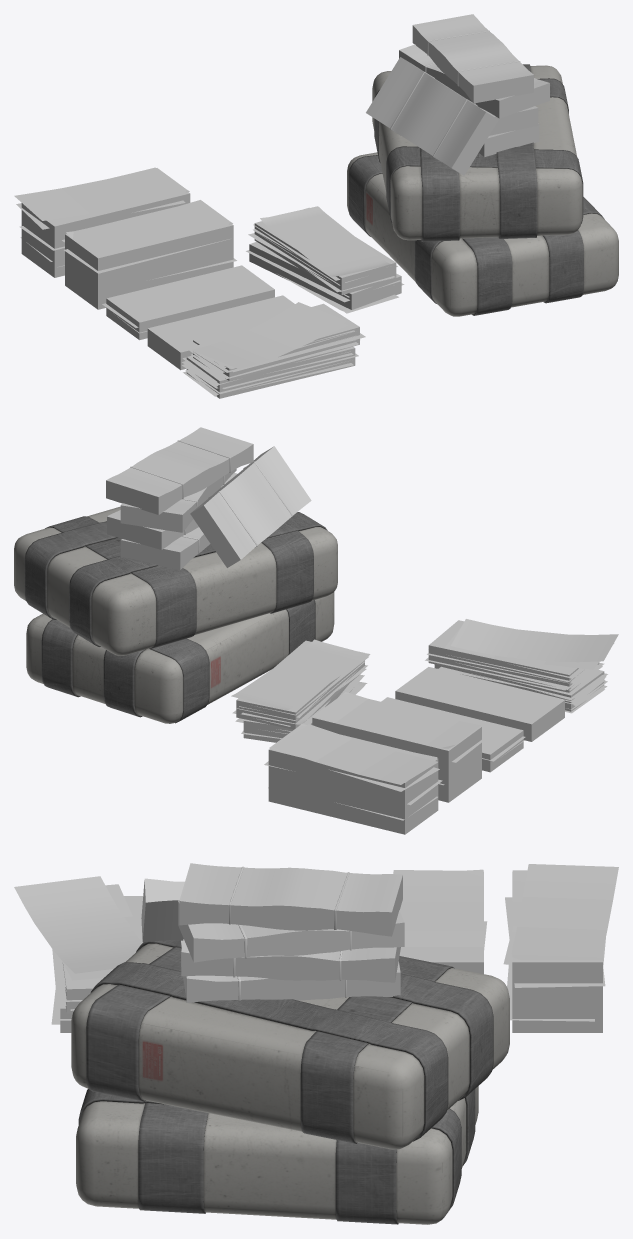
The picture shows the model from 3 angles, top to bottom: view 1: azimuth 30°, elevation 25°; view 2: azimuth 150°, elevation 25°; view 3: azimuth 270°, elevation 25°; orthographic projection. The views are drawn at different scales.
Visible parts, largest first — view 1: Cocain Brick_1.002, Cocain Brick_1.001, 100 Stack_1.003, 100 Stack_1, 100 Stack_1.006, Fat Stack Dirty, Small Stack Dirty, Small Stack No Band, LooseBill9.001, Fat Stack Dirty.001, 100 Stack_1.021, Small Stack Clean (+2 smaller); view 2: Cocain Brick_1.002, Cocain Brick_1.001, 100 Stack_1.003, Stack fat 20s.001, 100 Stack_1, 100 Stack_1.006, Small Stack Clean, Small Stack Dirty, Fat Stack Dirty.001, LooseBill9.001, 100 Stack_1.021, Fat Stack Dirty (+2 smaller); view 3: Cocain Brick_1.002, Cocain Brick_1.001, 100 Stack_1.003, LooseBill9.001, 100 Stack_1.021, Fat Stack Dirty.001, Stack fat 20s.001, 100 Stack_1.006, Small Stack Dirty, Stack fat 20s.002, LooseBill9.006, Fat Stack Dirty.
Boxes of the visible parts, <box> form: Cocain Brick_1.002: <box>372,64,583,241</box>; Cocain Brick_1.001: <box>347,152,618,316</box>; 100 Stack_1.003: <box>399,14,549,156</box>; 100 Stack_1: <box>246,206,404,313</box>; 100 Stack_1.006: <box>366,57,498,175</box>; Fat Stack Dirty: <box>64,224,236,309</box>; Small Stack Dirty: <box>182,303,365,398</box>; Small Stack No Band: <box>102,265,274,340</box>; LooseBill9.001: <box>14,167,183,220</box>; Fat Stack Dirty.001: <box>66,200,232,256</box>; 100 Stack_1.021: <box>191,302,345,368</box>; Small Stack Clean: <box>147,295,294,370</box>; Cocain Brick_1.002: <box>14,506,337,655</box>; Cocain Brick_1.001: <box>26,592,334,723</box>; 100 Stack_1.003: <box>106,427,253,569</box>; Stack fat 20s.001: <box>264,748,442,834</box>; 100 Stack_1: <box>231,639,370,742</box>; 100 Stack_1.006: <box>190,446,311,567</box>; Small Stack Clean: <box>395,667,564,741</box>; Small Stack Dirty: <box>425,620,607,713</box>; Fat Stack Dirty.001: <box>312,692,481,748</box>; LooseBill9.001: <box>272,724,437,784</box>; 100 Stack_1.021: <box>451,619,618,662</box>; Fat Stack Dirty: <box>312,717,486,802</box>; Cocain Brick_1.002: <box>71,939,509,1149</box>; Cocain Brick_1.001: <box>76,1086,478,1224</box>; 100 Stack_1.003: <box>178,863,404,1002</box>; LooseBill9.001: <box>511,864,618,957</box>; 100 Stack_1.021: <box>14,876,142,973</box>; Fat Stack Dirty.001: <box>393,869,483,960</box>; Stack fat 20s.001: <box>503,872,605,1032</box>; 100 Stack_1.006: <box>141,873,358,942</box>; Small Stack Dirty: <box>51,896,143,1032</box>; Stack fat 20s.002: <box>512,870,602,960</box>; LooseBill9.006: <box>62,884,143,980</box>; Fat Stack Dirty: <box>393,872,487,973</box>.
Size of the model in its own units: 8.31 by 3.43 by 6.67.
